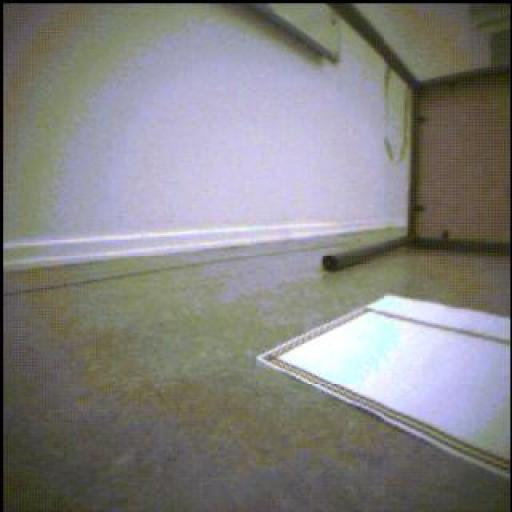Pad: (259, 297, 512, 478)
